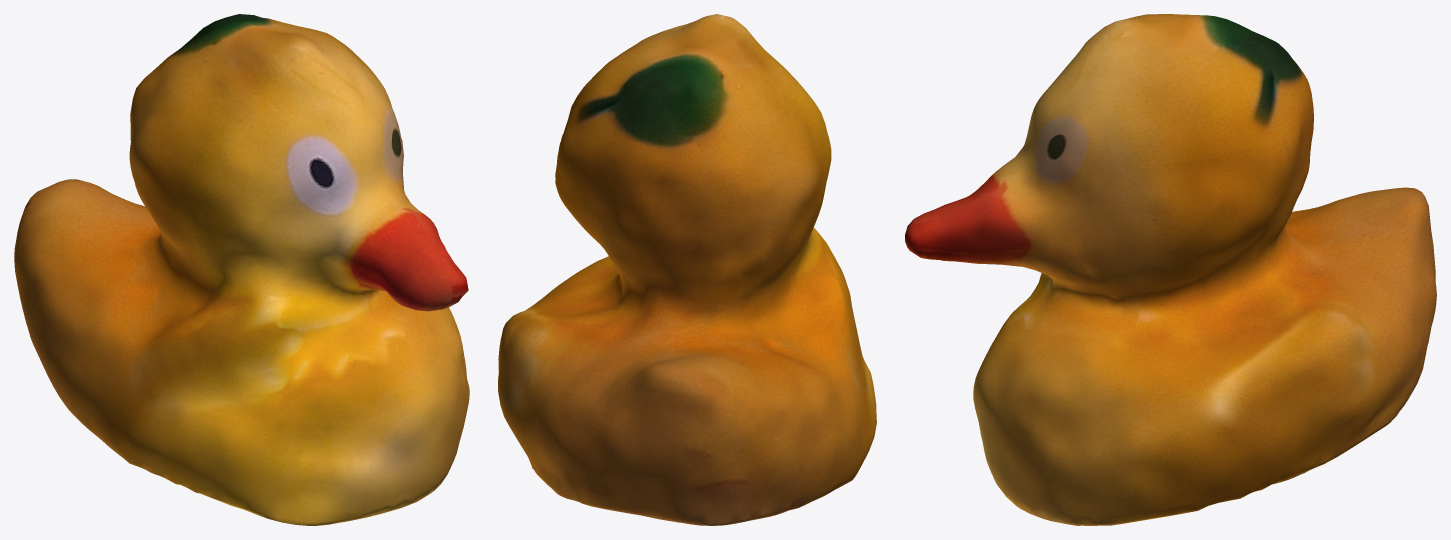
3 views of the same model, side by side, from view 1: azimuth 30°, elevation 25°; view 2: azimuth 150°, elevation 25°; view 3: azimuth 270°, elevation 25° (orthographic). The views are drawn at different scales.
Visible parts, largest first — view 1: ArcsoftMeshes0; view 2: ArcsoftMeshes0; view 3: ArcsoftMeshes0.
Part boxes in pixels (x1,y1,x2,y2): ArcsoftMeshes0: (14, 14, 469, 525); ArcsoftMeshes0: (498, 14, 876, 525); ArcsoftMeshes0: (905, 14, 1436, 525).
Size of the model in its own units: 1.2 by 1.47 by 1.58.
Materials: 1 (1 with a texture image).
